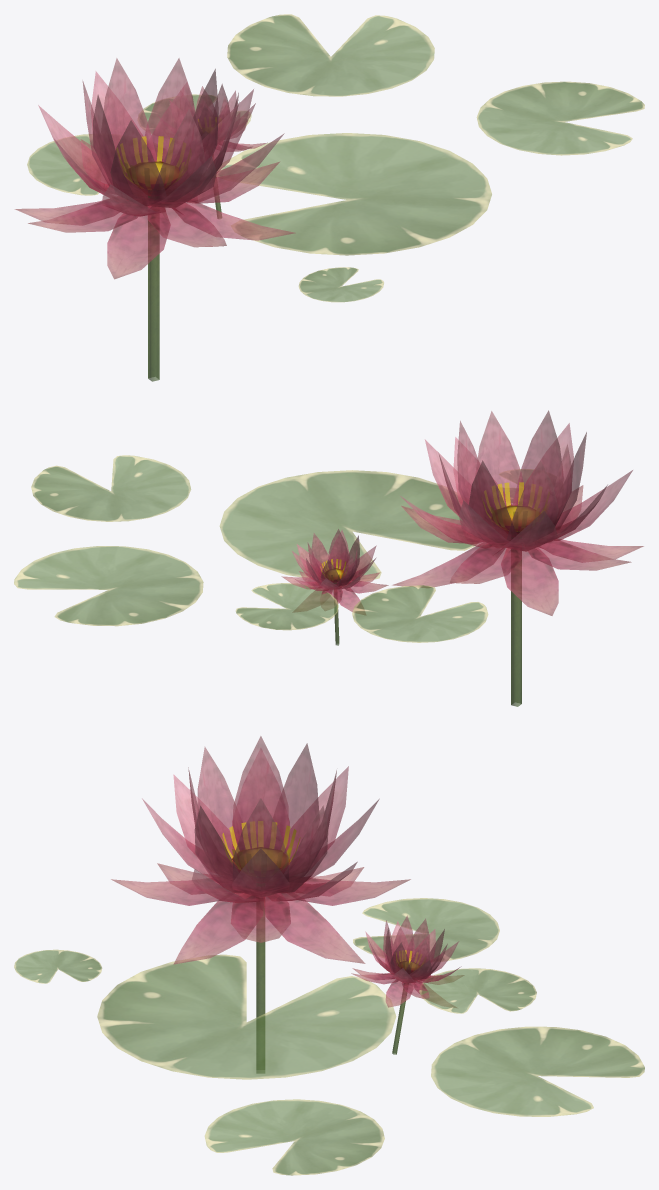
File: SM_Water_Lilies_B.glb
3 renders of one model, top to bottom at view 1: azimuth 30°, elevation 25°; view 2: azimuth 150°, elevation 25°; view 3: azimuth 270°, elevation 25°, orthographic. The views are drawn at different scales.
Visible parts, largest first — view 1: SM_Water_Lilies_B_LOD0; view 2: SM_Water_Lilies_B_LOD0; view 3: SM_Water_Lilies_B_LOD0.
Part boxes in pixels (bbox=[...]): SM_Water_Lilies_B_LOD0: bbox=[15, 14, 644, 381]; SM_Water_Lilies_B_LOD0: bbox=[14, 410, 643, 706]; SM_Water_Lilies_B_LOD0: bbox=[14, 736, 644, 1175].
Size of the model in its own units: 1.78 by 0.8099 by 1.5.
1 material, 1 textured.
